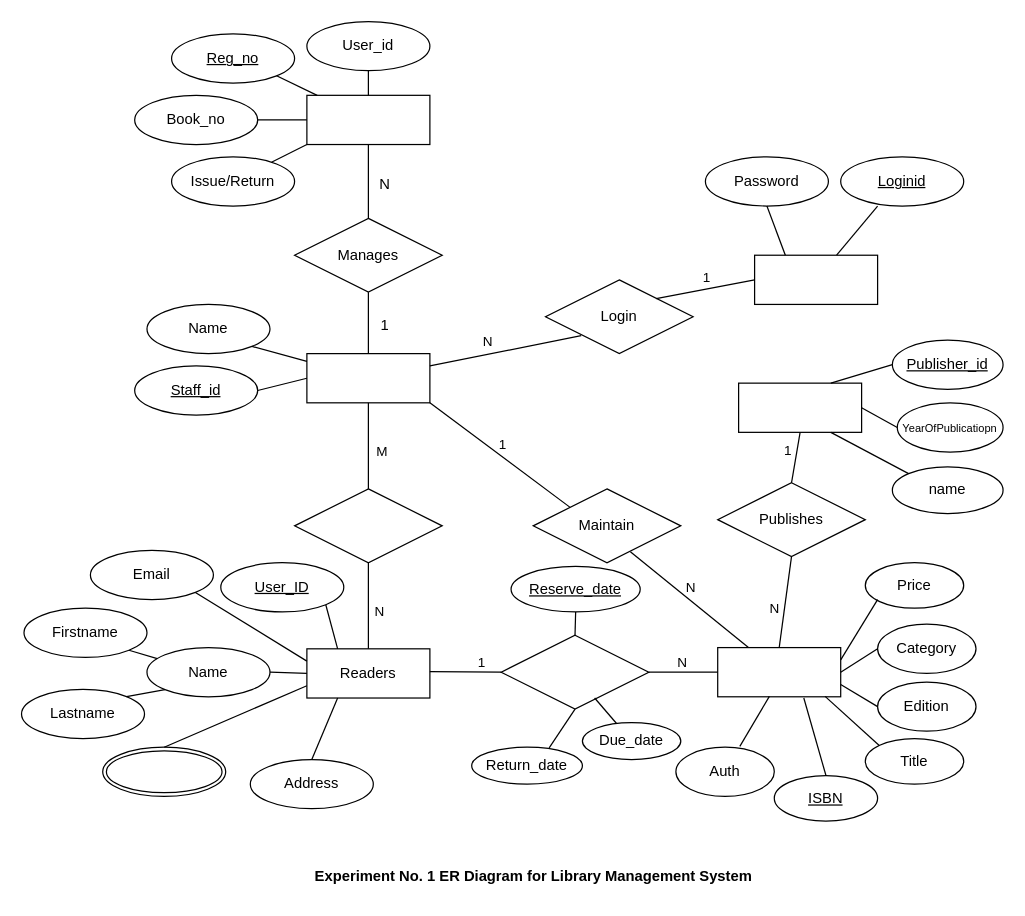
Image size: 1025x916. Some labels were removed from this diagram. Each missing label, with the centre of its shape:
Authentication system: (815,279)
Books: (778,671)
Keeps track of: (367,525)
Phone_no: (163,771)
Publisher: (799,407)
Report: (368,119)
Reserve/Return_date: (574,671)
Staff: (368,377)
